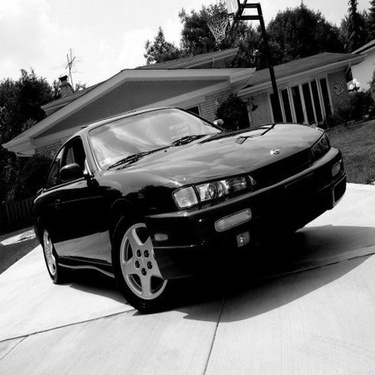car: (36, 116, 353, 299)
